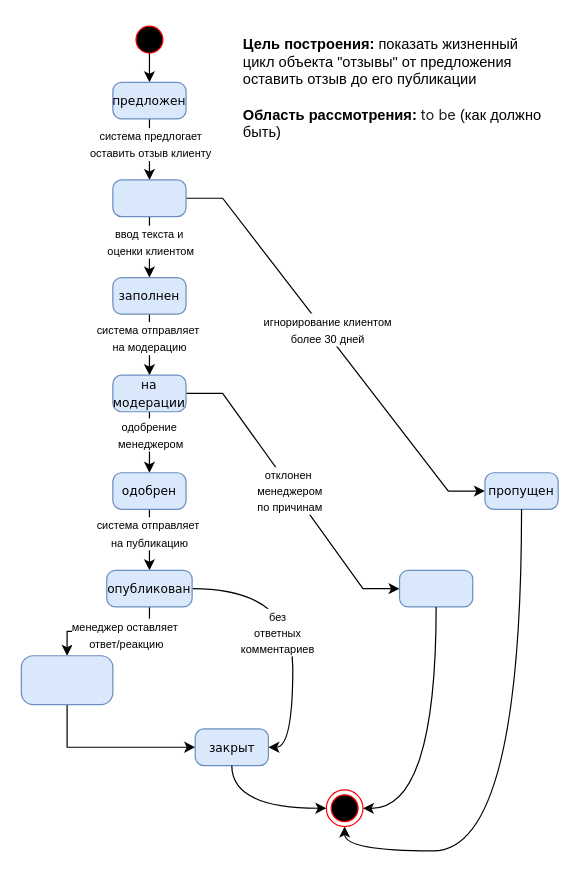
Image size: 580x872. Some labels were removed from this diagram. The centre of each missing label's shape, as x and y in pixels:
"ожидает ввода" goes at point 149,198.
"отклонен" goes at point 435,588.
"рассмотрен мменеджером" goes at point 66,680.
